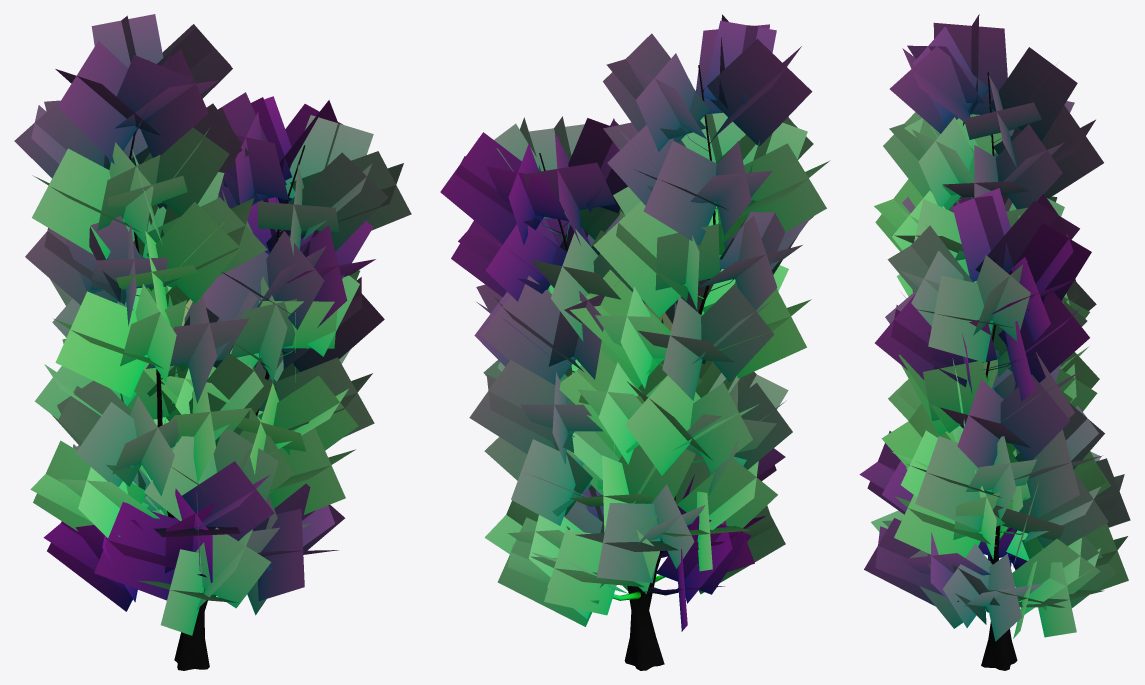
The model's file is Tree_5_8.fbx.
3 views of the same model, side by side, from view 1: azimuth 30°, elevation 25°; view 2: azimuth 150°, elevation 25°; view 3: azimuth 270°, elevation 25° (orthographic). The views are drawn at different scales.
Visible parts, largest first — view 1: _8; view 2: _8; view 3: _8.
Boxes of the visible parts, bbox=[...] form: _8: bbox=[14, 14, 411, 670]; _8: bbox=[440, 14, 830, 670]; _8: bbox=[859, 14, 1130, 670].
Bounding box in the file's own units: 1470 × 2518 × 1028.
